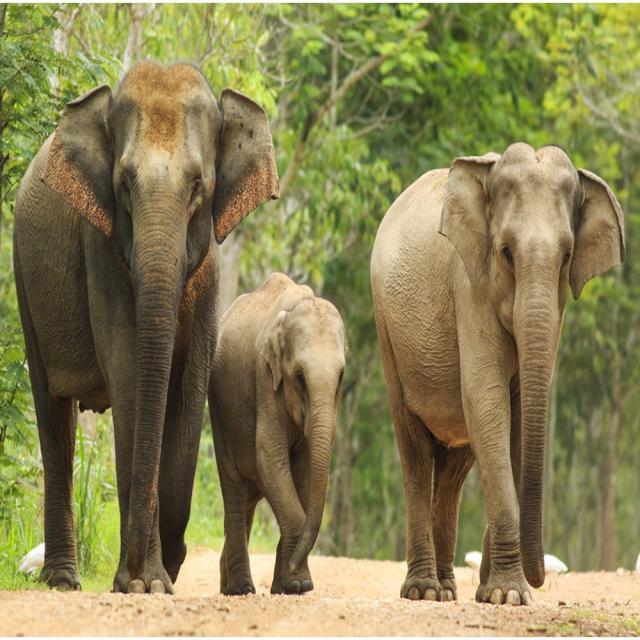Elephant: (11, 69, 266, 602), (372, 130, 626, 617), (209, 272, 359, 600)
